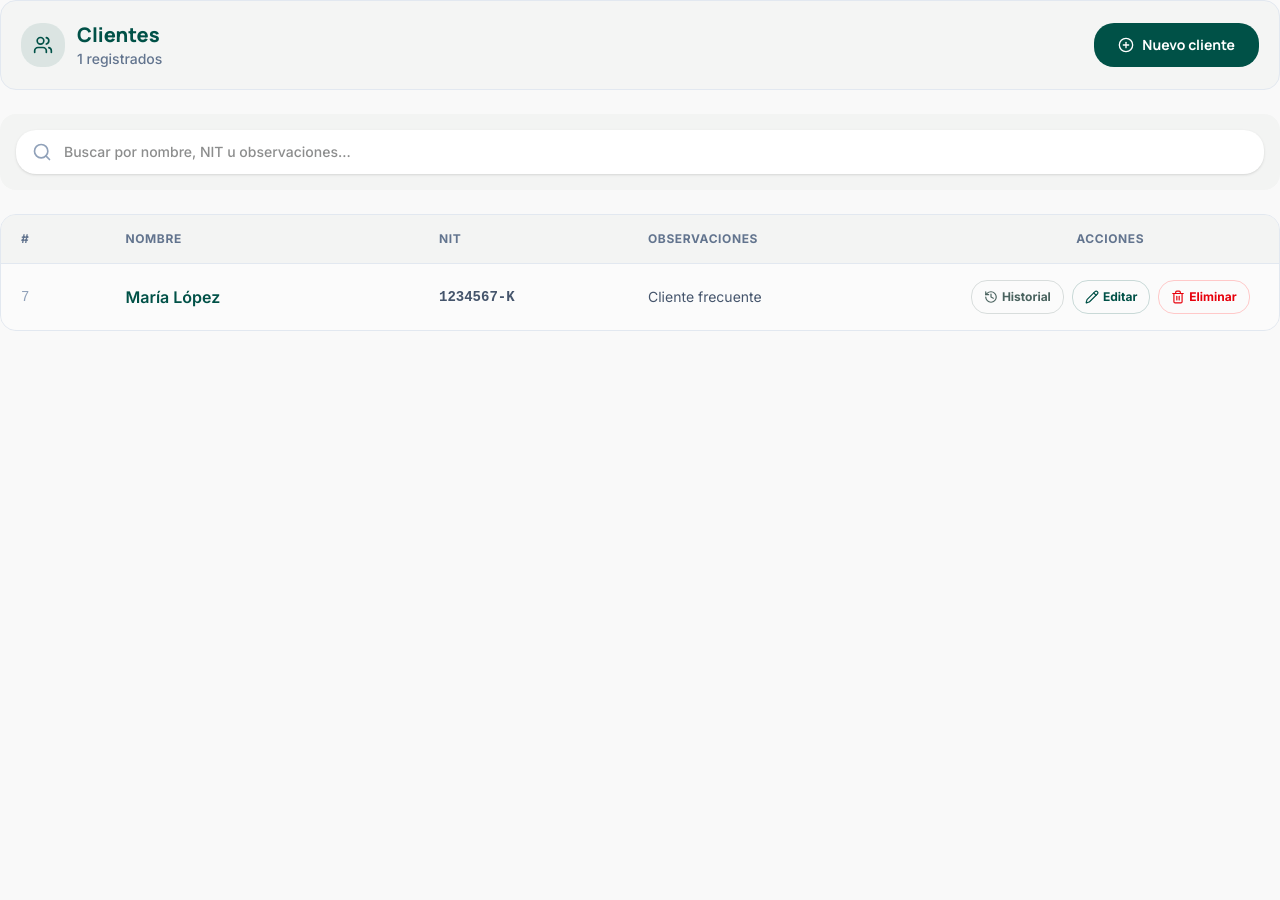
Scenario: Clientes › consulta y muestra el historial del cliente seleccionado
The width and height of the screenshot is (1280, 900).
Click the button with aria-label "Ver historial de María López" at [1017, 297], box [971, 280, 1064, 314]
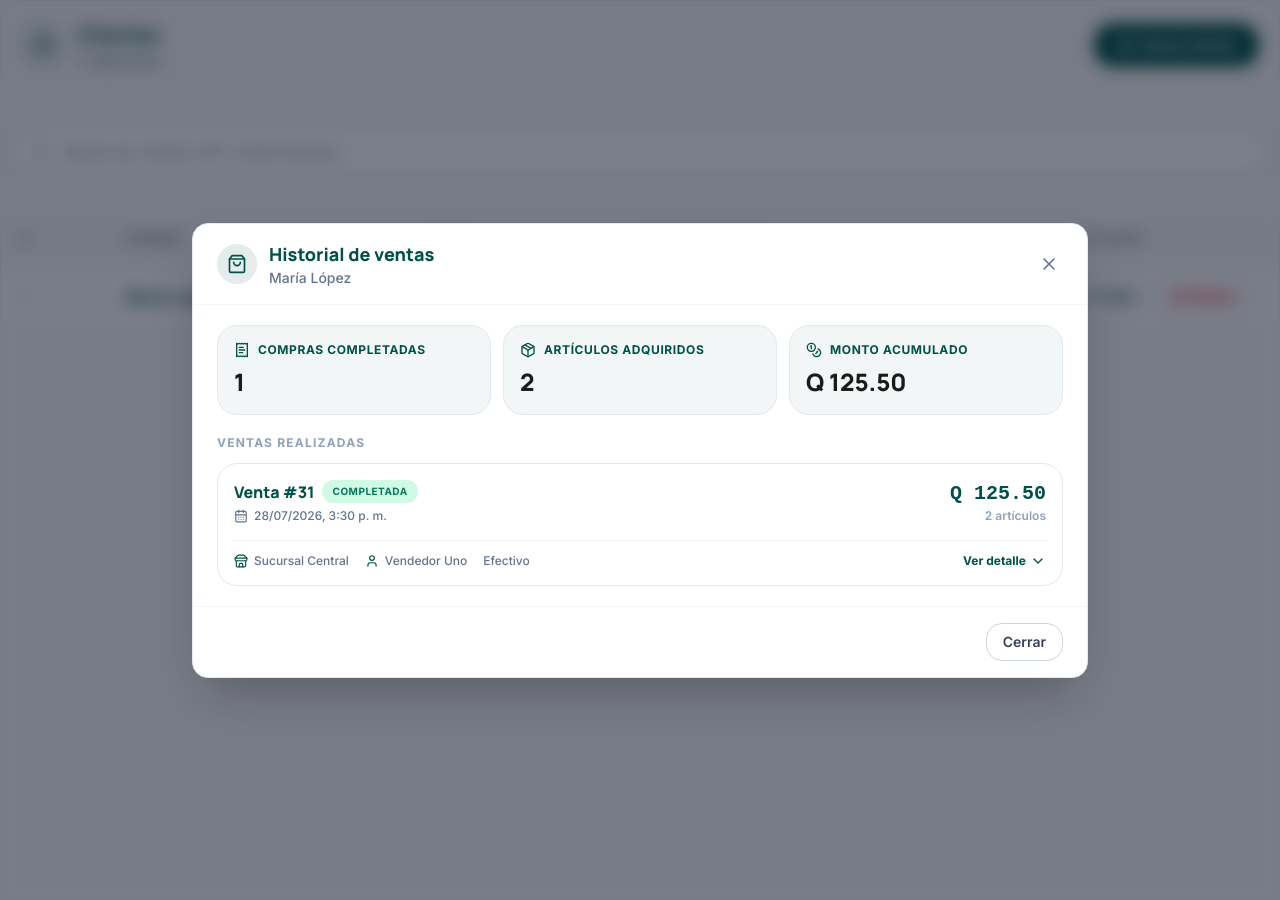
Expected: the text "María López" is shown, [269, 268, 351, 286]
Expected: the text "Compras completadas" is shown, [258, 342, 426, 358]
Expected: the text "Venta #31" is shown, [234, 480, 314, 504]
Click the button "Ver detalle" at [1005, 560], box [963, 552, 1046, 568]
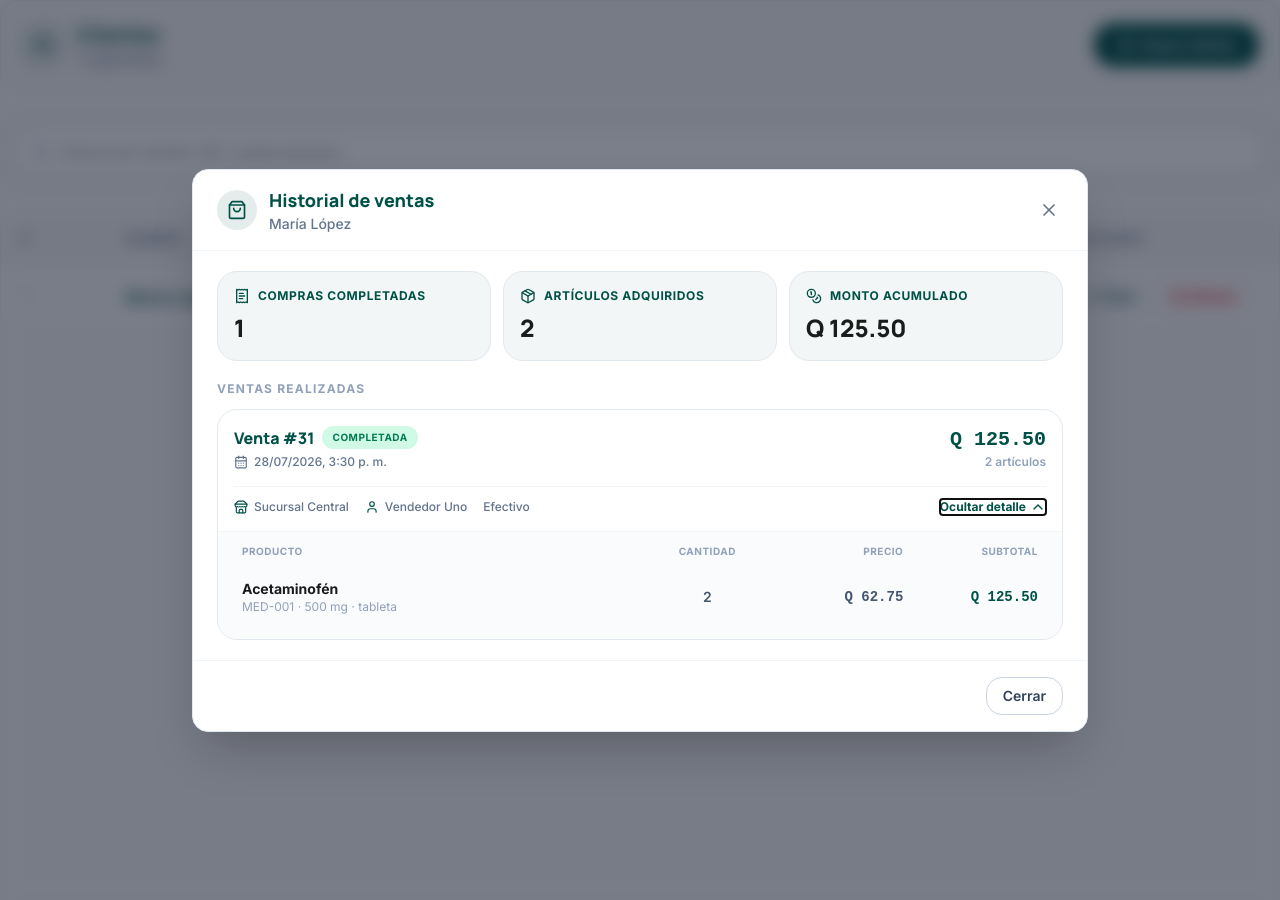
Expected: the text "Acetaminofén" is shown, [242, 580, 338, 596]
Expected: the text "MED-001 · 500 mg · tableta" is shown, [242, 598, 397, 614]
